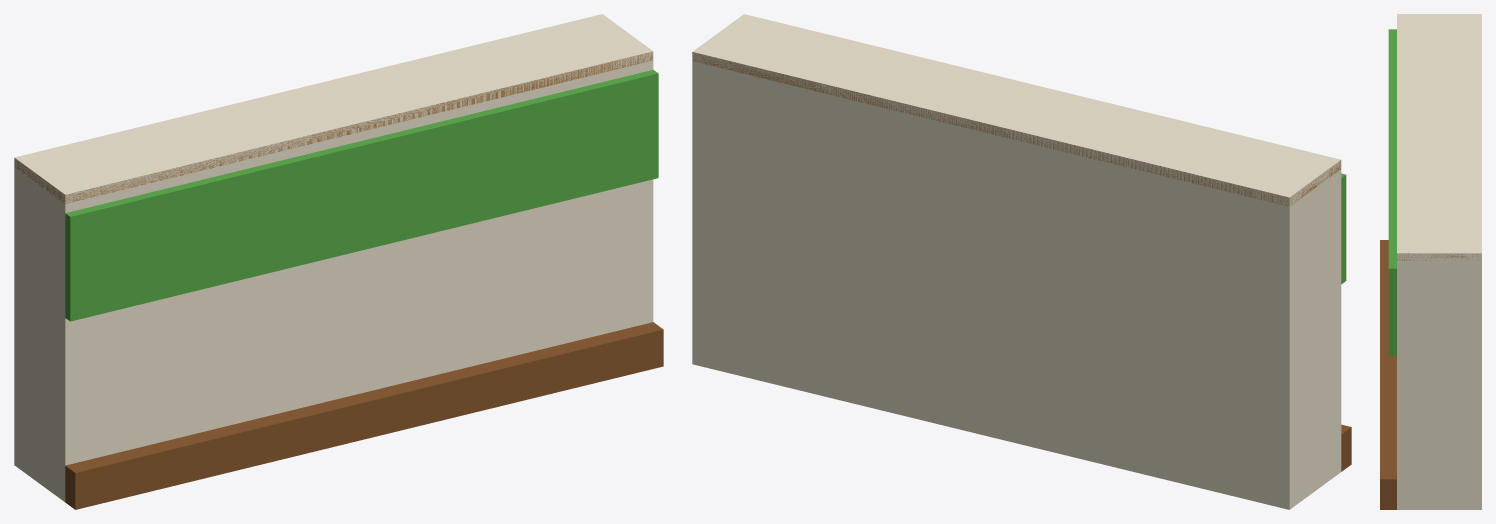
Rendered from wall.glb.
3 views of the same model, side by side, from view 1: azimuth 30°, elevation 25°; view 2: azimuth 150°, elevation 25°; view 3: azimuth 270°, elevation 25° (orthographic). The views are drawn at different scales.
Parts seen in each view (by area): view 1: wall; view 2: wall; view 3: wall.
Part boxes in pixels (box(x1,y1,x2,y2)): wall: box(14, 14, 663, 509); wall: box(692, 14, 1351, 509); wall: box(1380, 14, 1481, 509).
Size of the model in its own units: 1 by 0.5 by 0.18.
1 material, 1 textured.
